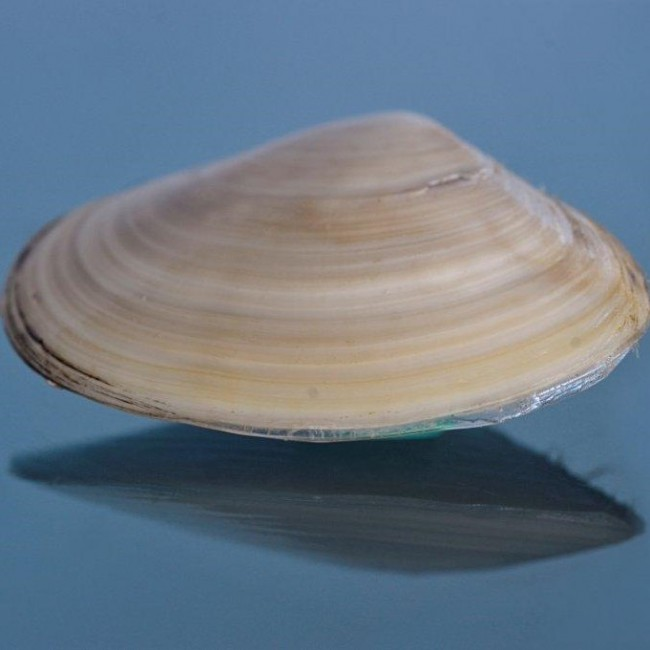tuatua: (6, 106, 645, 452)
